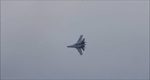maybay_muctieu: (67, 35, 87, 57)
